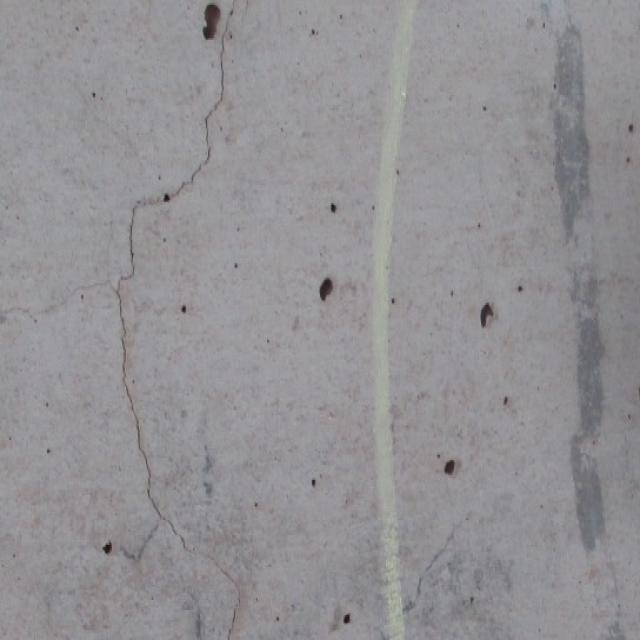crack: (103, 1, 251, 277), (114, 331, 242, 638), (400, 514, 470, 622), (2, 277, 128, 331)
